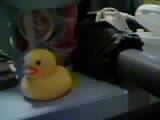duck: (10, 45, 71, 92)
